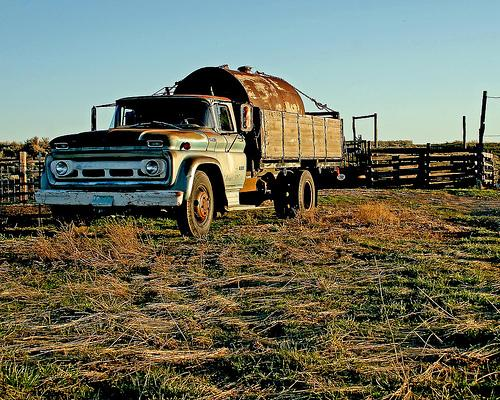truck: (33, 62, 345, 239)
